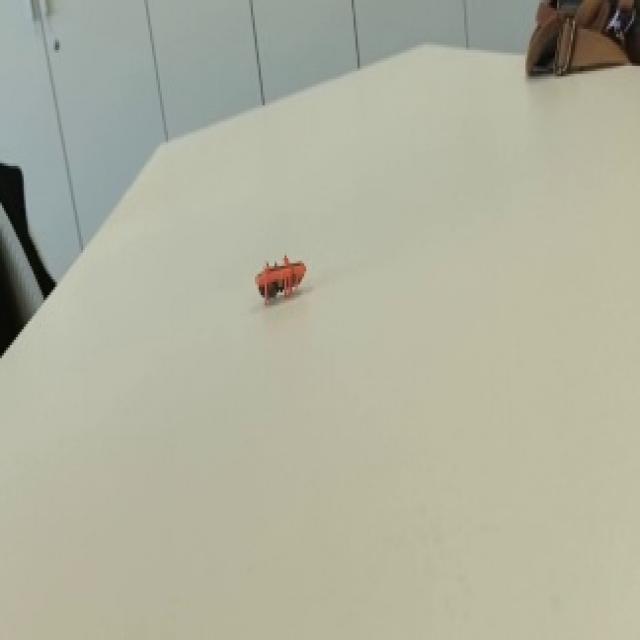7_NanoBug_Naranja: (246, 253, 312, 314)
